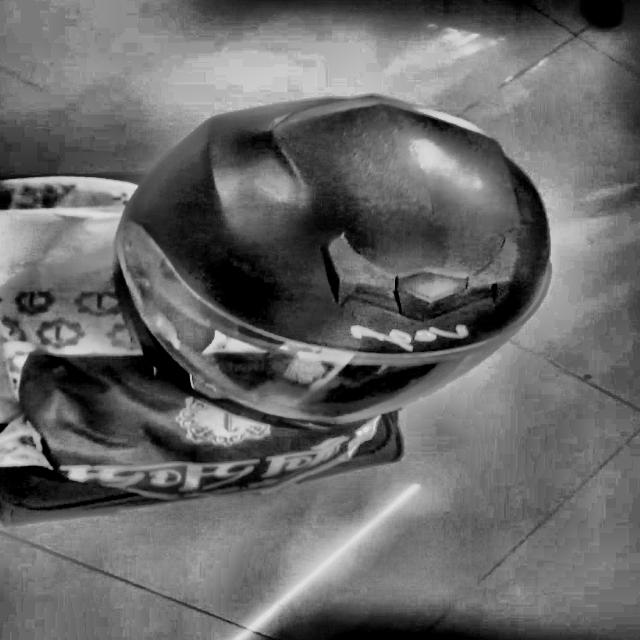Helmet: (101, 89, 560, 432)
